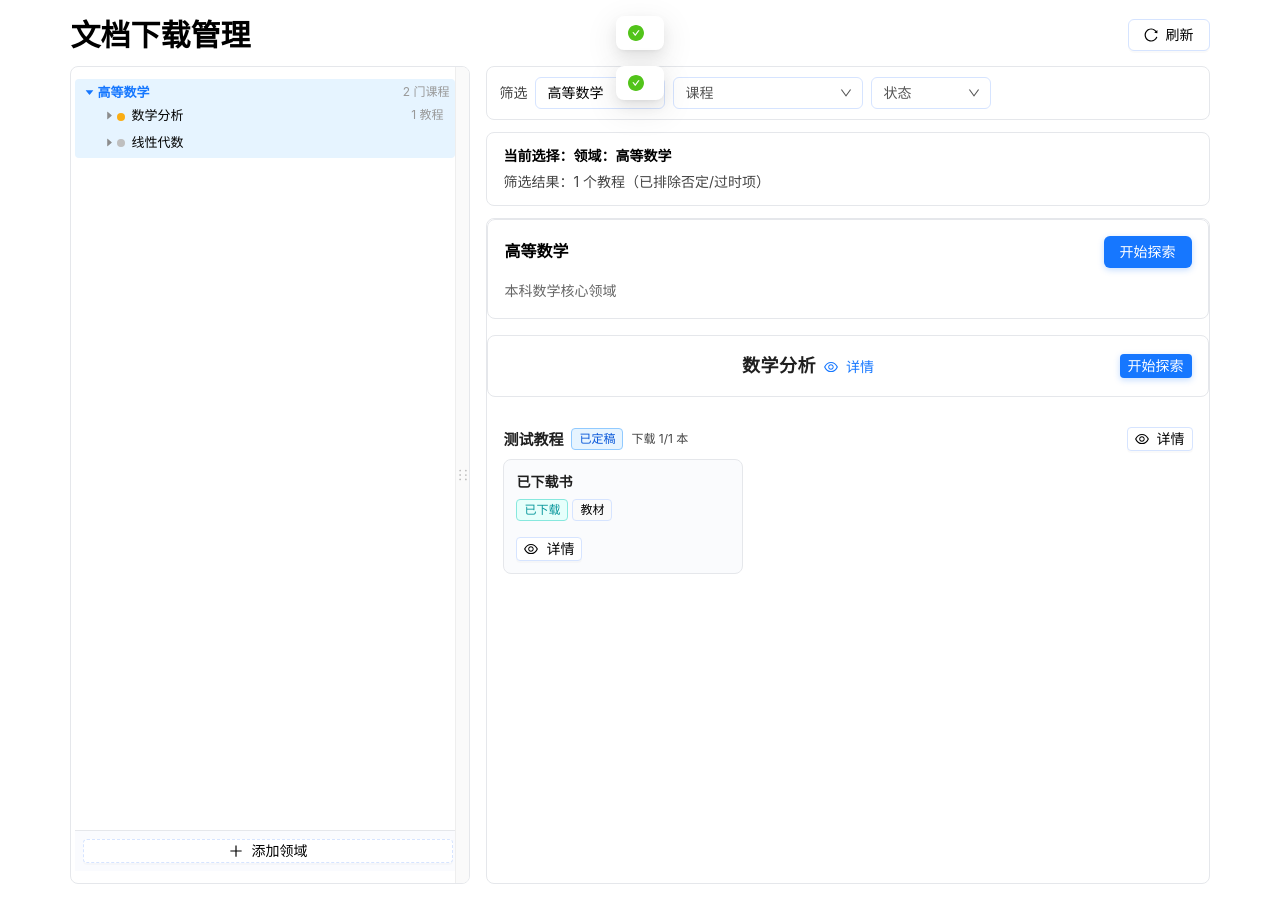
it: 文档下载管理 Downloads v2（真实领域课程体系，2026-08-24 REQ-059） › BookDetailModal 渠道操作 › 渠道列表：成功渠道显示「成功」标签
Click the text "数学分析" at (150, 115), box [117,107,183,123]
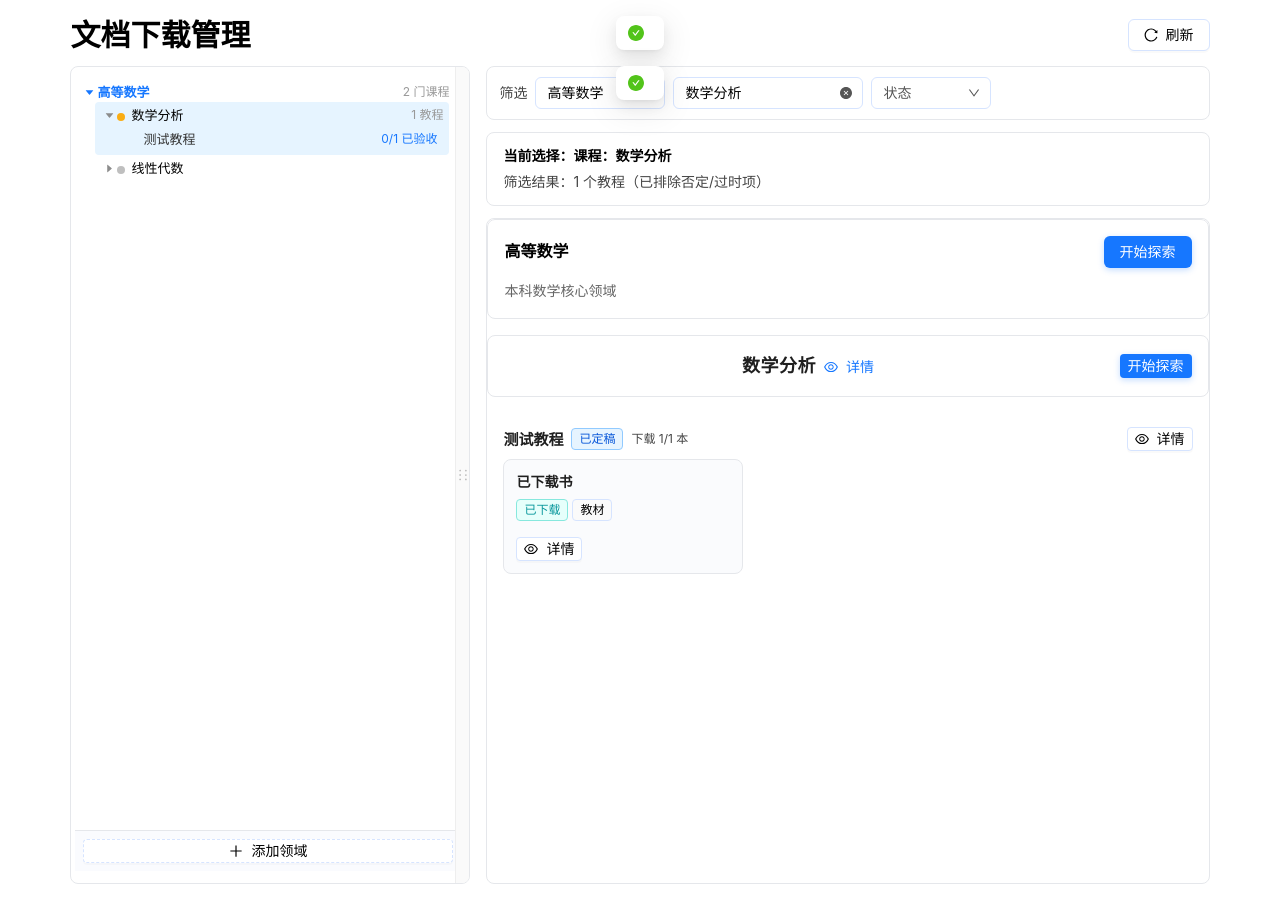
Click the button "详情" below "教材" at (549, 549), box [516,537,582,561]
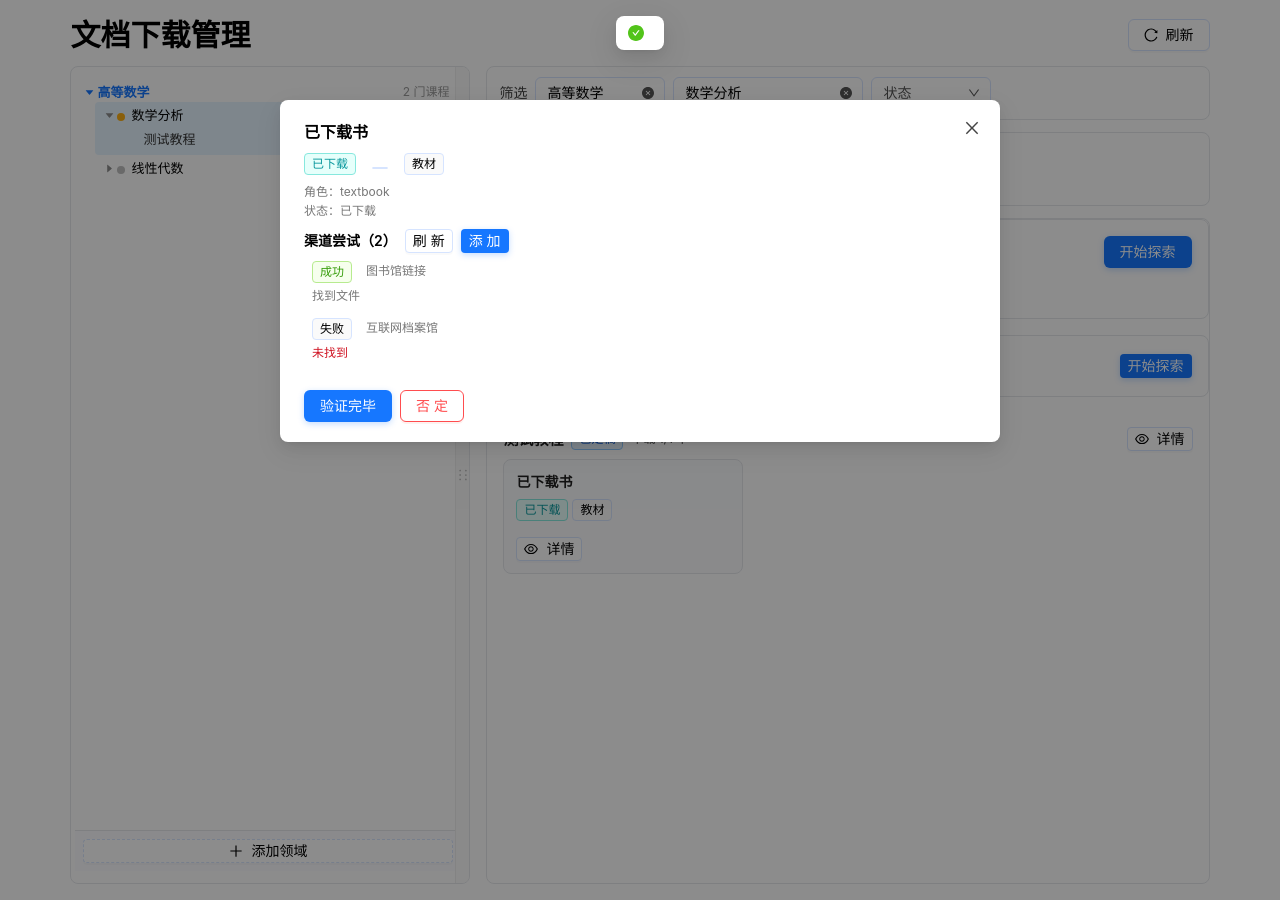
Expected: the text "已下载书" is shown, [304,122,368,142]
Expected: the text "成功" is shown, [312,261,352,283]
Expected: the text "失败" is shown, [312,318,352,340]
